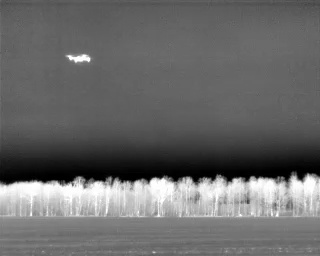DRONE: (63, 49, 96, 68)
